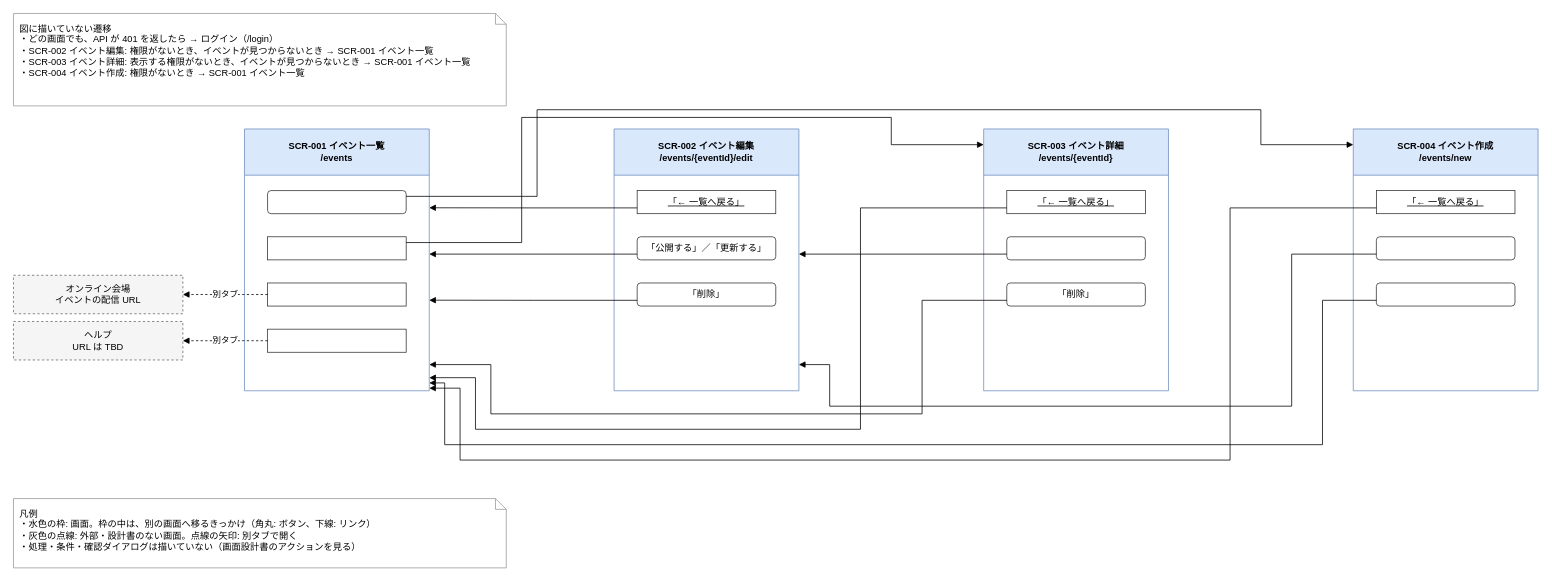
The diagram is 1552 pixels wide and 581 high, and some of its shapes have lost their labels. The centre of each missing label's shape, as x and y in pixels:
「イベントを作成」: [336,202]
「オンライン会場」: [336,294]
「ヘルプ」: [336,340]
「下書き保存」: [1445,248]
「公開する」: [1445,294]
「編集」: [1075,248]
タイトル: [336,248]
